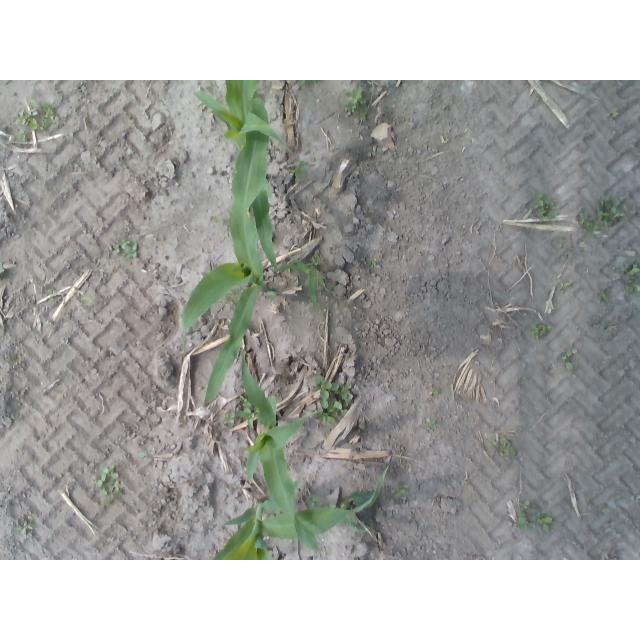Maize: (185, 87, 325, 408), (241, 349, 324, 556), (193, 81, 279, 272), (215, 467, 390, 559)
Weeds: (531, 194, 557, 223), (315, 377, 337, 410), (598, 197, 622, 223), (346, 87, 367, 113), (624, 264, 640, 294), (577, 211, 596, 231), (535, 512, 554, 530), (564, 349, 578, 371), (320, 410, 338, 426), (519, 513, 533, 531), (122, 245, 138, 260), (293, 165, 308, 180), (502, 440, 516, 456), (339, 383, 354, 397), (110, 481, 124, 495), (534, 323, 547, 337), (335, 402, 348, 415), (238, 403, 252, 415), (22, 522, 34, 536), (15, 110, 26, 125), (559, 281, 574, 292), (40, 107, 54, 118), (104, 466, 118, 477), (97, 473, 108, 487), (391, 488, 406, 498), (359, 107, 369, 122), (83, 294, 95, 306), (26, 107, 39, 117), (212, 215, 225, 225), (41, 119, 52, 130), (298, 80, 318, 86), (519, 499, 530, 509), (225, 413, 236, 423), (368, 259, 379, 269), (30, 118, 39, 130), (109, 243, 119, 253), (599, 291, 609, 301), (609, 110, 619, 119), (99, 488, 109, 497), (558, 237, 566, 248), (17, 135, 28, 142), (426, 416, 435, 424), (519, 375, 526, 385), (431, 389, 437, 396)
